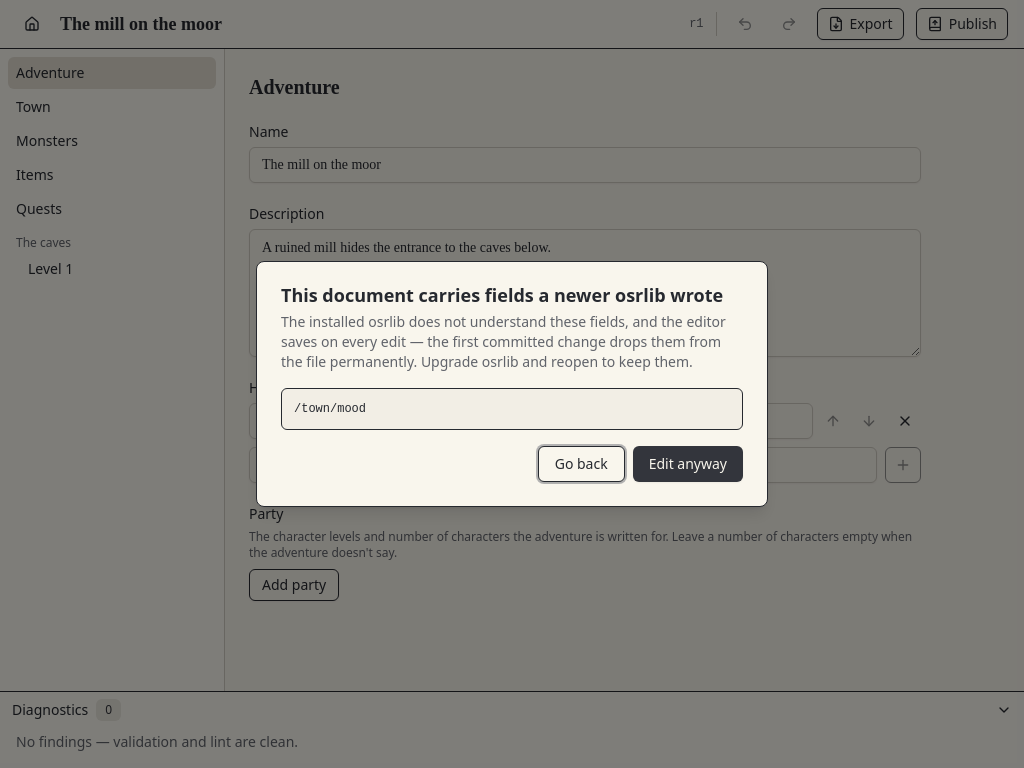
Test: the fidelity dialog blocks until acknowledged
The image size is (1024, 768).
Expected: the heading "This document carries fields a newer osrlib wrote" is shown, 281,286 -> 743,304
Expected: the list item "/town/mood" is shown, 294,402 -> 366,416
Click the button "Edit anyway" at (688, 464), box 633,446 -> 743,482
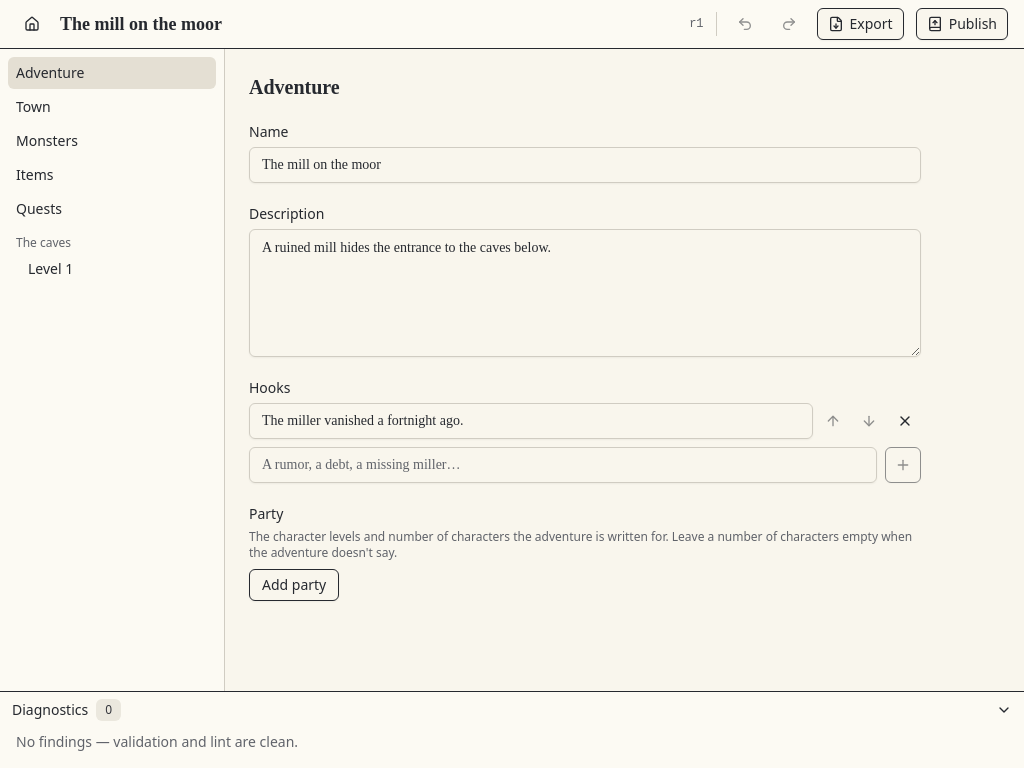
Now the heading "This document carries fields a newer osrlib wrote" is gone
